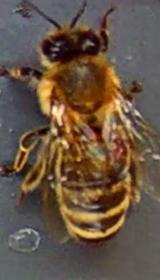varroa_mite: (106, 139, 136, 164)
